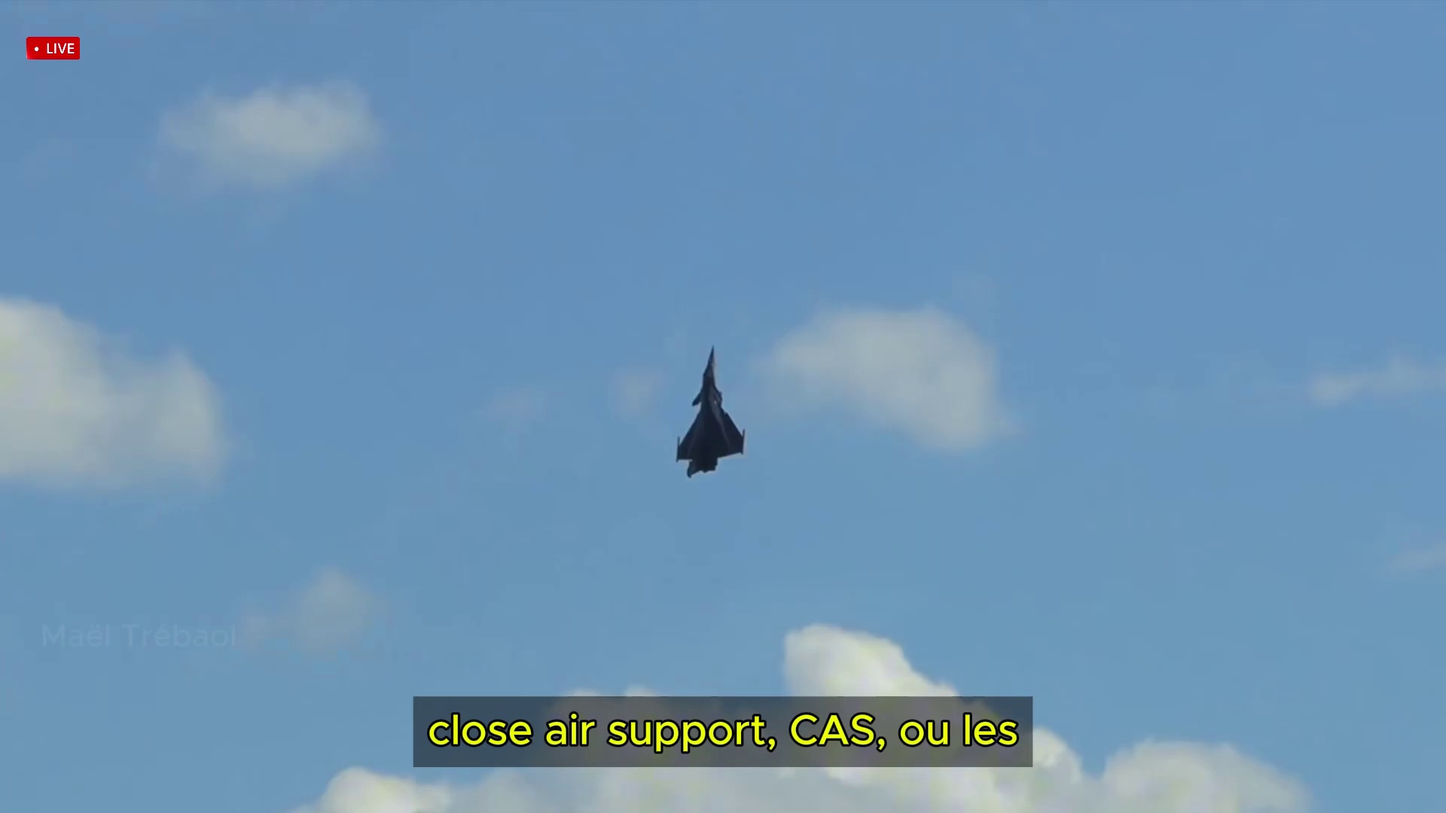Rafale: (668, 341, 751, 483)
